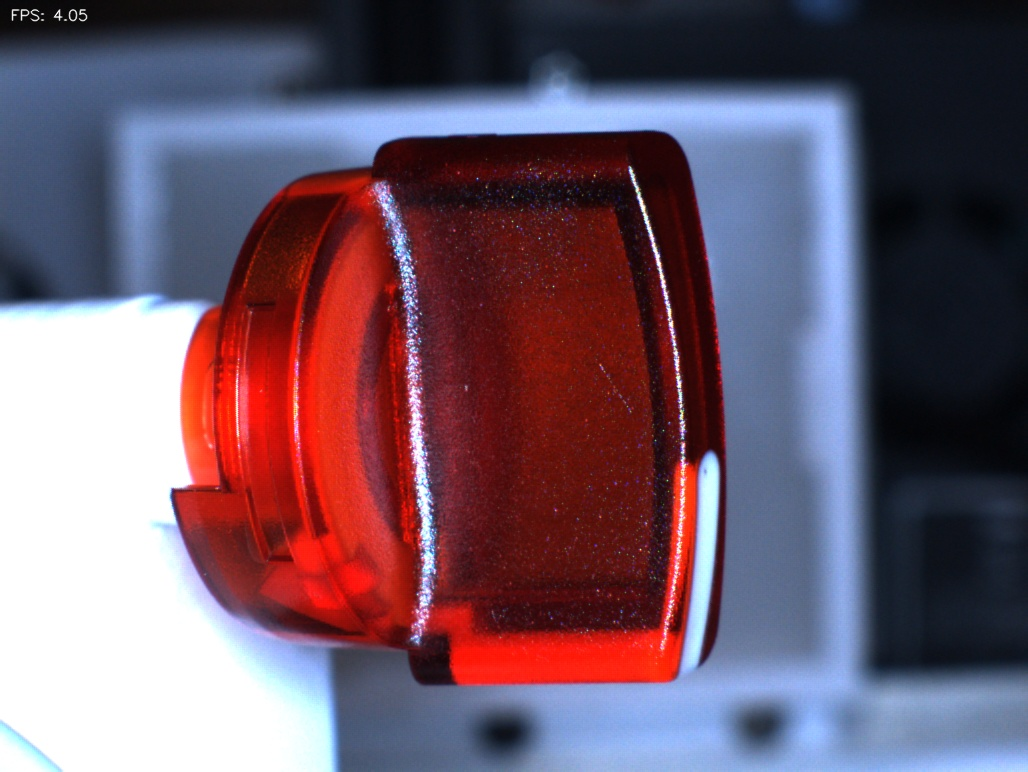PointNoir: (674, 447, 740, 504)
